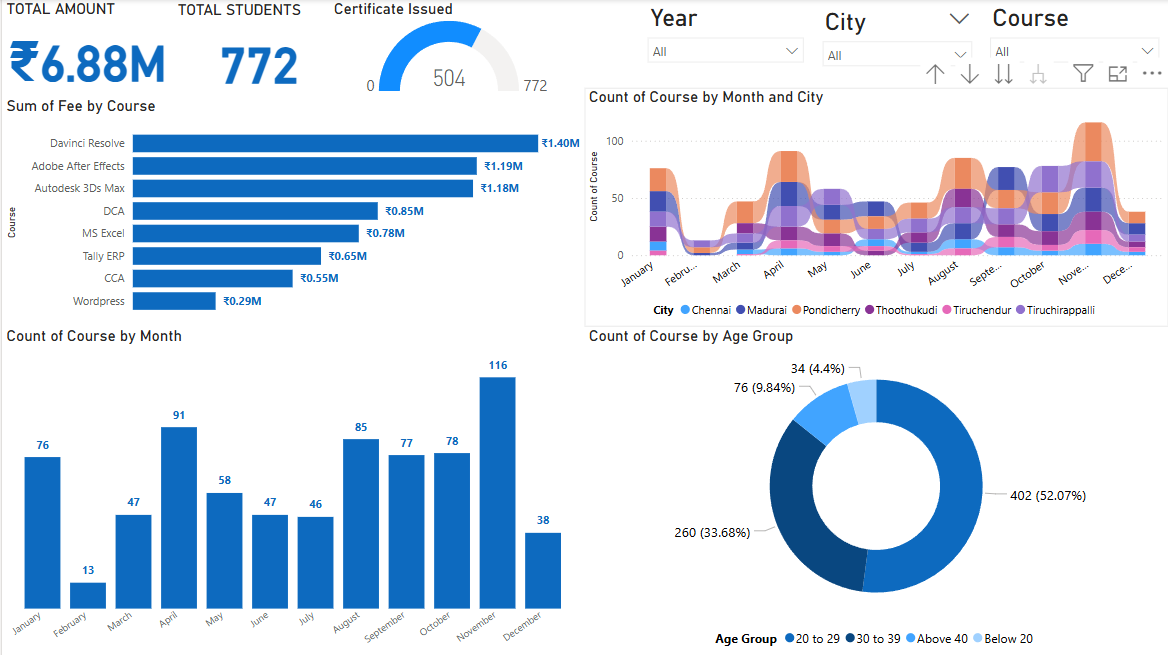

The page's visual inventory and layout, read from the dashboard file:
{"tool":"powerbi","page":{"name":"APT Inst of tech","canvas":[1280,720],"ordinal":0},"visuals":[{"type":"clusteredColumnChart","fields":{"Category":["Student Course Details (2).Date of join.Variation.Date Hierarchy.Year","Student Course Details (2).Date of join.Variation.Date Hierarchy.Quarter","Student Course Details (2).Date of join.Variation.Date Hierarchy.Month","Student Course Details (2).Date of join.Variation.Date Hierarchy.Day"],"Y":["Student Course Details (2).Course"]},"box":[0,359.5,639.5,360.9],"z":0},{"type":"donutChart","fields":{"Y":["Student Course Details (2).Course"],"Category":["Student Course Details (2).Age Group"]},"box":[639.5,359.5,640.8,360.9],"z":1000},{"type":"barChart","fields":{"Category":["Student Course Details (2).Course"],"Y":["Student Course Details (2).Fee"]},"box":[0,107,639.5,249.7],"z":2000},{"type":"card","title":"TOTAL AMOUNT","fields":{"Values":["Student Course Details (2).Fee"]},"box":[0,0,188.6,110],"z":3000},{"type":"card","title":"TOTAL STUDENTS","fields":{"Values":["Personal Details.Student Name"]},"box":[188.6,1.4,188.6,110],"z":4000},{"type":"gauge","title":"Certificate Issued","fields":{"Y":["Personal Details.Count_yes"]},"box":[359.5,0,279.9,111.1],"z":5000},{"type":"slicer","fields":{"Values":["Student Course Details (2).Date of join.Variation.Date Hierarchy.Year"]},"box":[698.6,0,191.4,108.6],"z":6000},{"type":"slicer","fields":{"Values":["Personal Details.City"]},"box":[890,4.3,184.3,105.7],"z":7000},{"type":"slicer","fields":{"Values":["Student Course Details (2).Course"]},"box":[1074.3,0,205.7,107.1],"z":8000},{"type":"ribbonChart","fields":{"Category":["Student Course Details (2).Date of join.Variation.Date Hierarchy.Year","Student Course Details (2).Date of join.Variation.Date Hierarchy.Quarter","Student Course Details (2).Date of join.Variation.Date Hierarchy.Month","Student Course Details (2).Date of join.Variation.Date Hierarchy.Day"],"Series":["Personal Details.City"],"Y":["Student Course Details (2).Course"]},"box":[639.5,97.4,640.8,262.1],"z":8001}]}

Visuals, with their boxes in screenshot pixels (x1, y1, x2, y2), scaled from the page's 1280x720 canvas onto the 1168x655 screenshot:
clusteredColumnChart - Student Course Details (2).Date of join.Variation.Date Hierarchy.Year x Student Course Details (2).Date of join.Variation.Date Hierarchy.Quarter: <bbox>0, 327, 584, 654</bbox>
donutChart - Student Course Details (2).Course x Student Course Details (2).Age Group: <bbox>584, 327, 1167, 654</bbox>
barChart - Student Course Details (2).Course x Student Course Details (2).Fee: <bbox>0, 97, 584, 324</bbox>
"TOTAL AMOUNT" card: <bbox>0, 0, 172, 100</bbox>
"TOTAL STUDENTS" card: <bbox>172, 1, 344, 101</bbox>
"Certificate Issued" gauge: <bbox>328, 0, 583, 101</bbox>
slicer - Student Course Details (2).Date of join.Variation.Date Hierarchy.Year: <bbox>637, 0, 812, 99</bbox>
slicer - Personal Details.City: <bbox>812, 4, 980, 100</bbox>
slicer - Student Course Details (2).Course: <bbox>980, 0, 1167, 97</bbox>
ribbonChart - Student Course Details (2).Date of join.Variation.Date Hierarchy.Year x Student Course Details (2).Date of join.Variation.Date Hierarchy.Quarter: <bbox>584, 89, 1167, 327</bbox>
